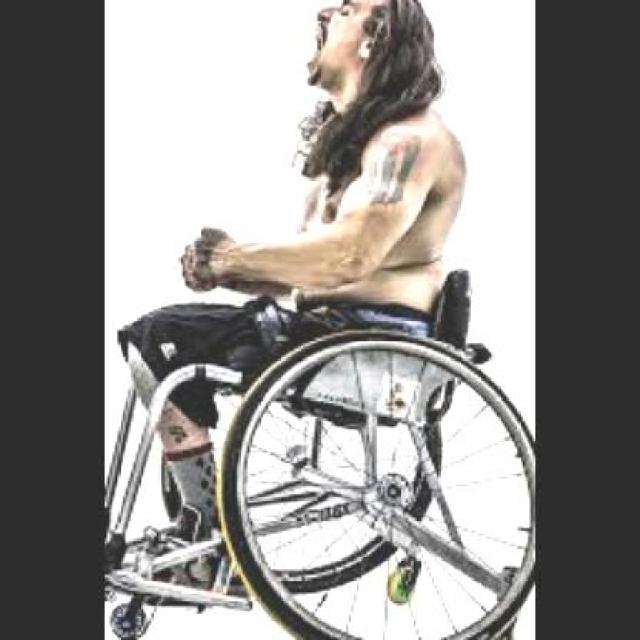wheelchairs: (114, 265, 533, 633)
